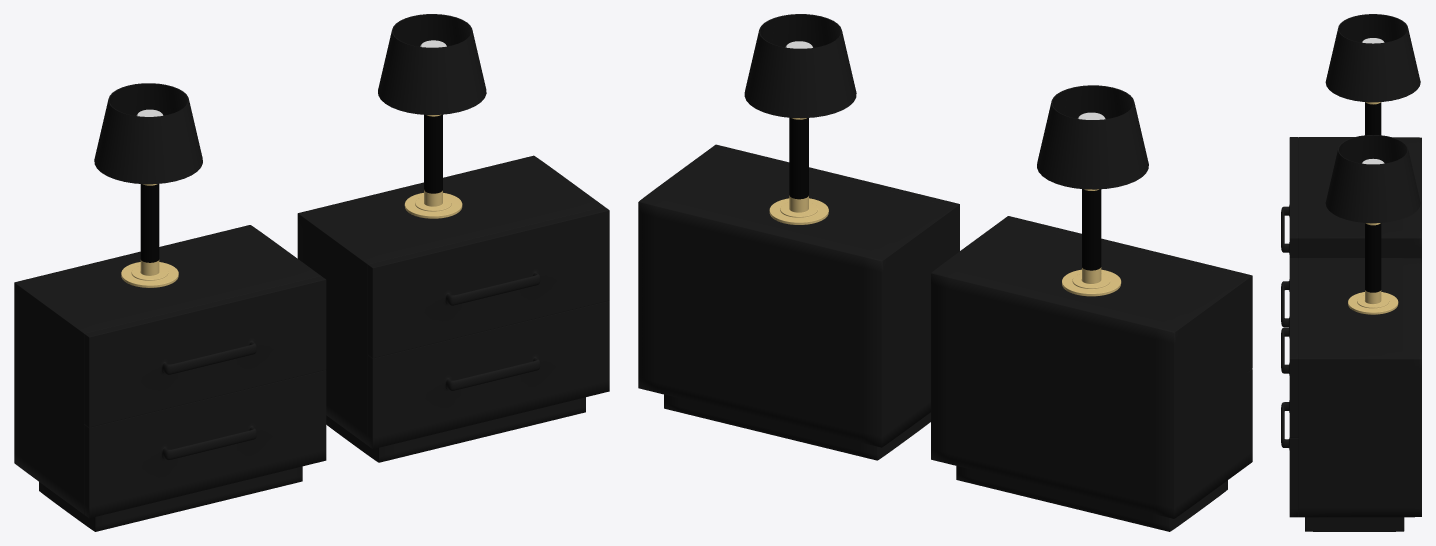
Rendered from black side table.fbx.
3 views of the same model, side by side, from view 1: azimuth 30°, elevation 25°; view 2: azimuth 150°, elevation 25°; view 3: azimuth 270°, elevation 25° (orthographic). The views are drawn at different scales.
Visible parts, largest first — view 1: bedside table, bedside table.001, Circle.001, Circle.002, Circle, Circle.003; view 2: bedside table, bedside table.001, Circle.002, Circle.001, Circle, Circle.003; view 3: bedside table.001, bedside table, Circle.001, Circle.002, Circle.003, Circle.
Part boxes in pixels (<box>): bedside table: <box>14,225,326,531</box>; bedside table.001: <box>297,155,609,462</box>; Circle.001: <box>94,83,202,184</box>; Circle.002: <box>378,14,486,114</box>; Circle: <box>121,109,178,287</box>; Circle.003: <box>404,40,462,218</box>; bedside table: <box>931,216,1252,531</box>; bedside table.001: <box>638,144,959,460</box>; Circle.002: <box>744,14,856,118</box>; Circle.001: <box>1037,85,1148,189</box>; Circle: <box>1062,112,1121,296</box>; Circle.003: <box>769,41,828,224</box>; bedside table.001: <box>1281,258,1421,531</box>; bedside table: <box>1281,137,1421,327</box>; Circle.001: <box>1325,14,1420,102</box>; Circle.002: <box>1325,135,1420,223</box>; Circle.003: <box>1348,158,1398,314</box>; Circle: <box>1362,38,1384,135</box>.
Size of the model in its own units: 113 by 79.38 by 30.41.
